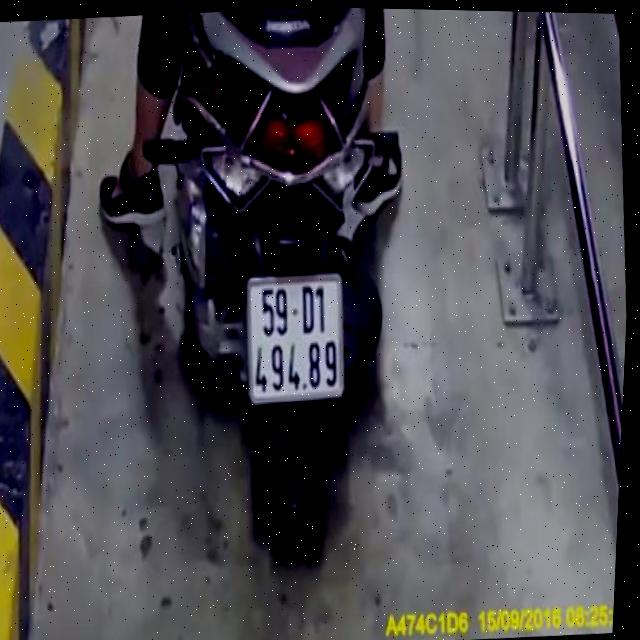motorcycle: (118, 13, 435, 565)
plate: (233, 262, 357, 409)
